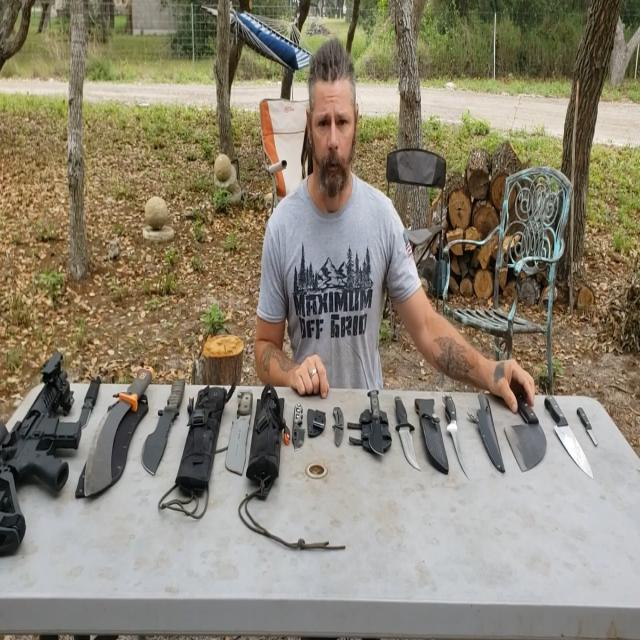knife: (81, 373, 146, 500), (139, 359, 201, 474), (548, 372, 598, 505), (223, 381, 263, 489), (504, 376, 545, 462), (74, 356, 112, 446), (442, 393, 477, 490), (396, 389, 422, 488), (577, 395, 610, 465), (366, 390, 390, 476), (331, 404, 356, 468), (288, 400, 311, 469)
long weapon: (0, 334, 104, 586)
